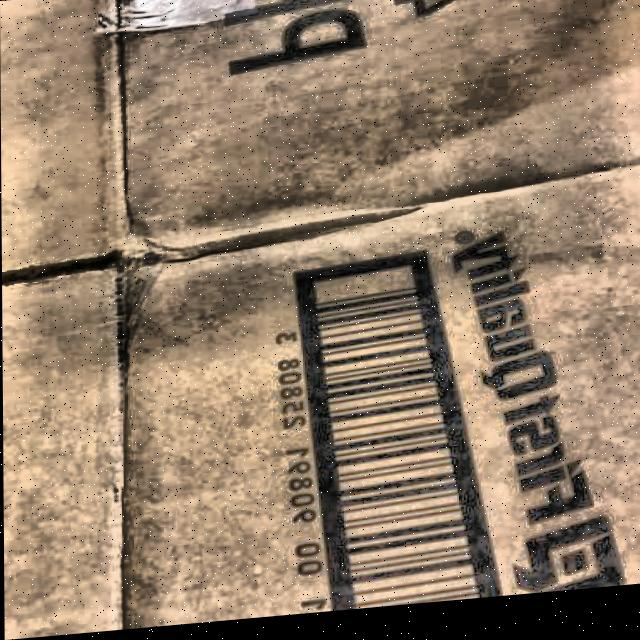cardboard: (119, 161, 640, 630)
